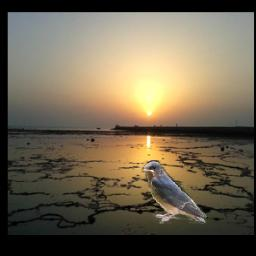Swallow: (141, 161, 207, 225)
